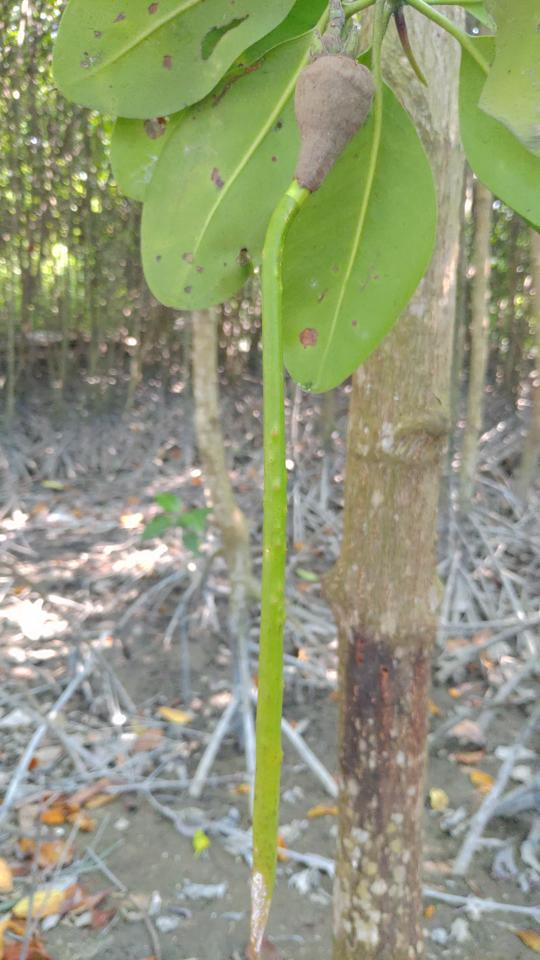setengah matang: (233, 26, 391, 958)
